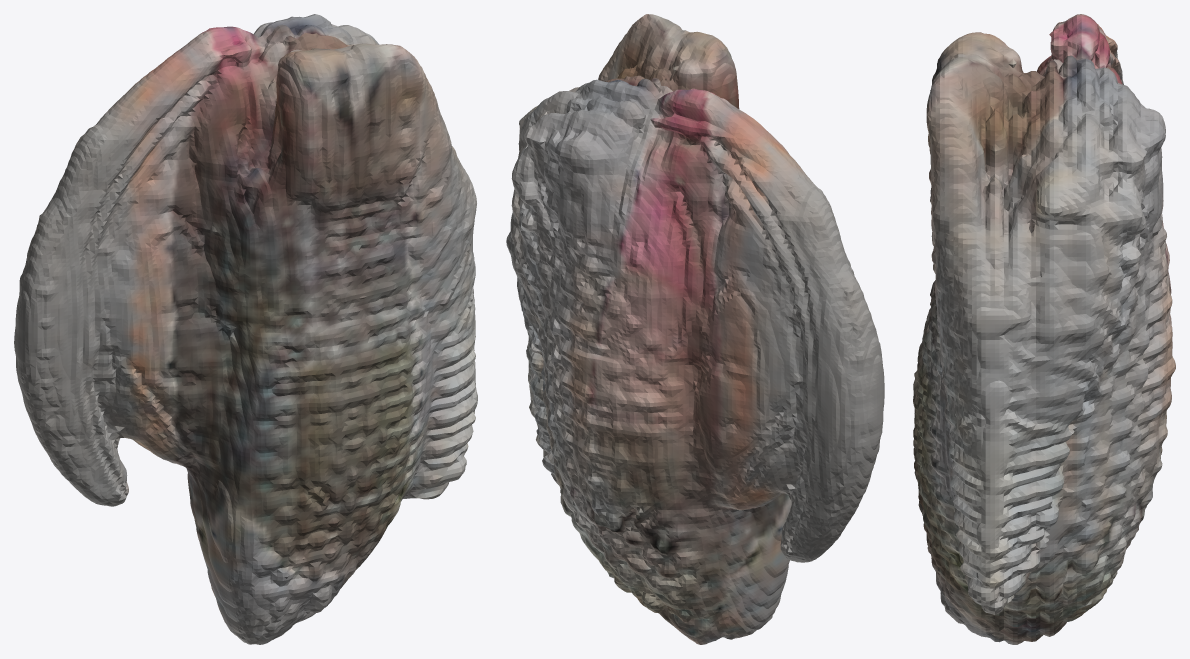
File: andinoacara-pulcher.glb
3 renders of one model, left to right at view 1: azimuth 30°, elevation 25°; view 2: azimuth 150°, elevation 25°; view 3: azimuth 270°, elevation 25°, orthographic. The views are drawn at different scales.
Parts seen in each view (by area): view 1: world; view 2: world; view 3: world.
Part boxes in pixels (x1,y1,x2,y2): world: [14, 14, 477, 644]; world: [506, 14, 884, 644]; world: [913, 14, 1175, 644].
Size of the model in its own units: 0.7363 by 1.02 by 0.3934.
